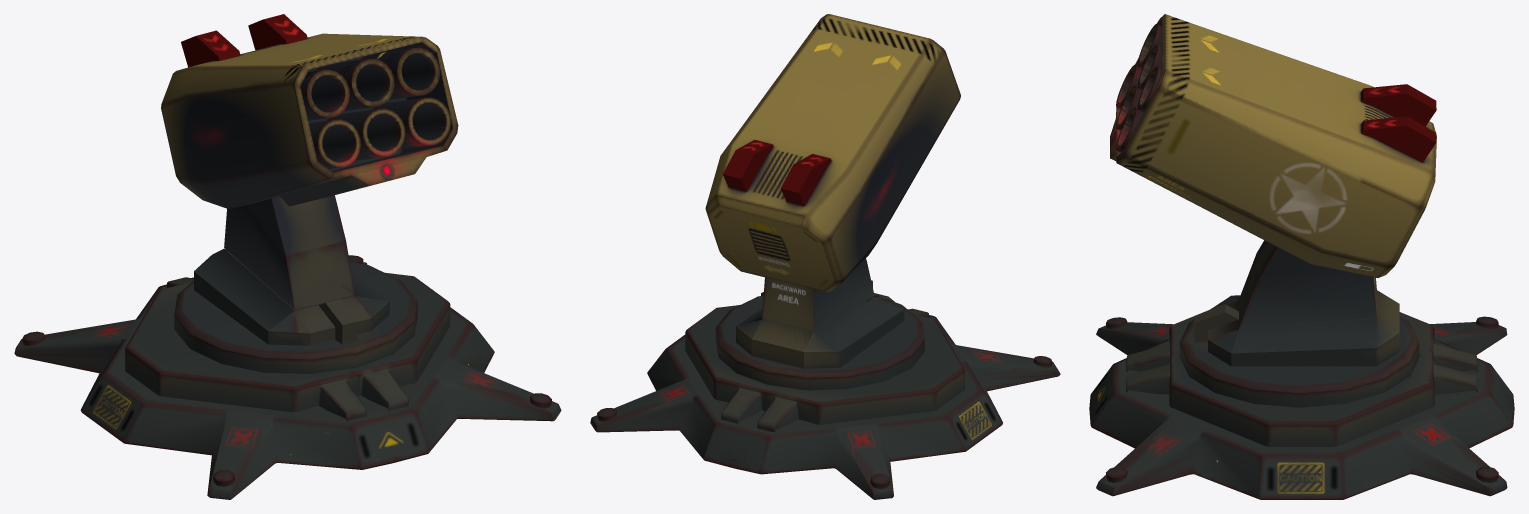
The model's file is PlayerTankLauncher.fbx.
The picture shows the model from 3 angles, left to right: view 1: azimuth 30°, elevation 25°; view 2: azimuth 150°, elevation 25°; view 3: azimuth 270°, elevation 25°; orthographic projection. The views are drawn at different scales.
Visible parts, largest first — view 1: missl, missl.001; view 2: missl, missl.001; view 3: missl, missl.001.
Part boxes in pixels (x1,y1,x2,y2): missl: (14, 248, 561, 499); missl.001: (161, 14, 458, 309); missl: (590, 280, 1060, 499); missl.001: (705, 14, 960, 331); missl: (1089, 290, 1514, 499); missl.001: (1110, 14, 1436, 327).
Bounding box in the file's own units: 1401 × 1380 × 1423.
